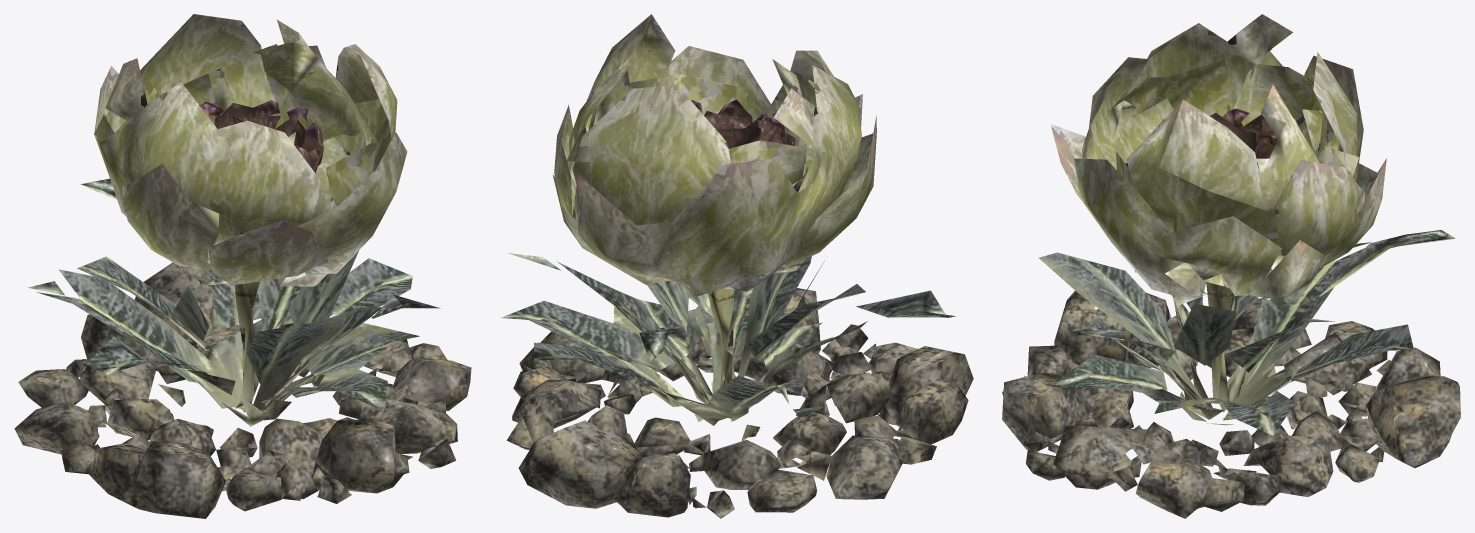
Rendered from snow-lotus.glb.
3 renders of one model, left to right at view 1: azimuth 30°, elevation 25°; view 2: azimuth 150°, elevation 25°; view 3: azimuth 270°, elevation 25°, orthographic. The views are drawn at different scales.
Parts seen in each view (by area): view 1: snow-lotus-t.raw; view 2: snow-lotus-t.raw; view 3: snow-lotus-t.raw.
Boxes of the visible parts, x1=… form: snow-lotus-t.raw: x1=14, y1=14, x2=471, y2=518; snow-lotus-t.raw: x1=501, y1=14, x2=973, y2=518; snow-lotus-t.raw: x1=1002, y1=14, x2=1460, y2=518.
Size of the model in its own units: 0.5496 by 0.5 by 0.5559.
1 material, 1 textured.
